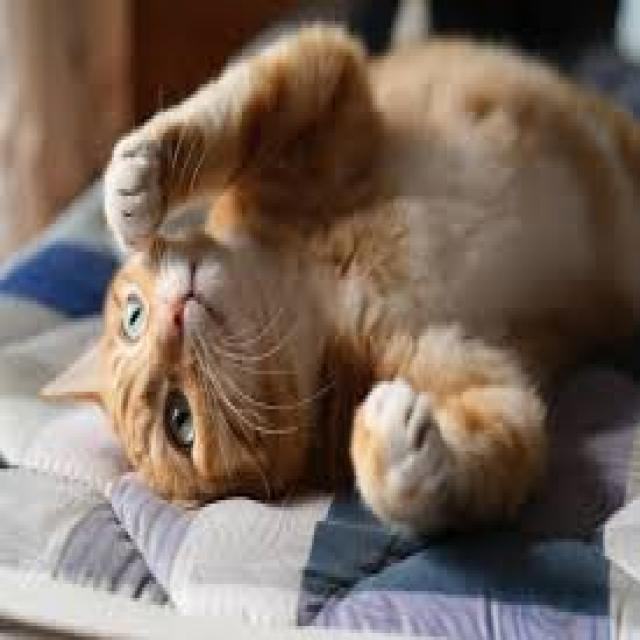cat: (18, 0, 640, 559)
